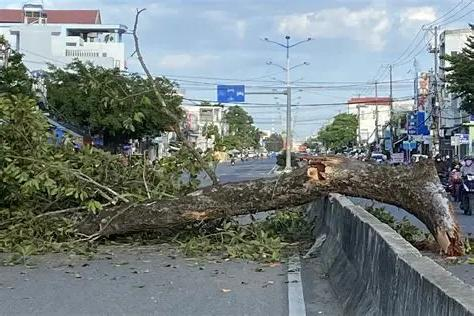ROAD_OBSTACLE: (0, 60, 464, 260)
